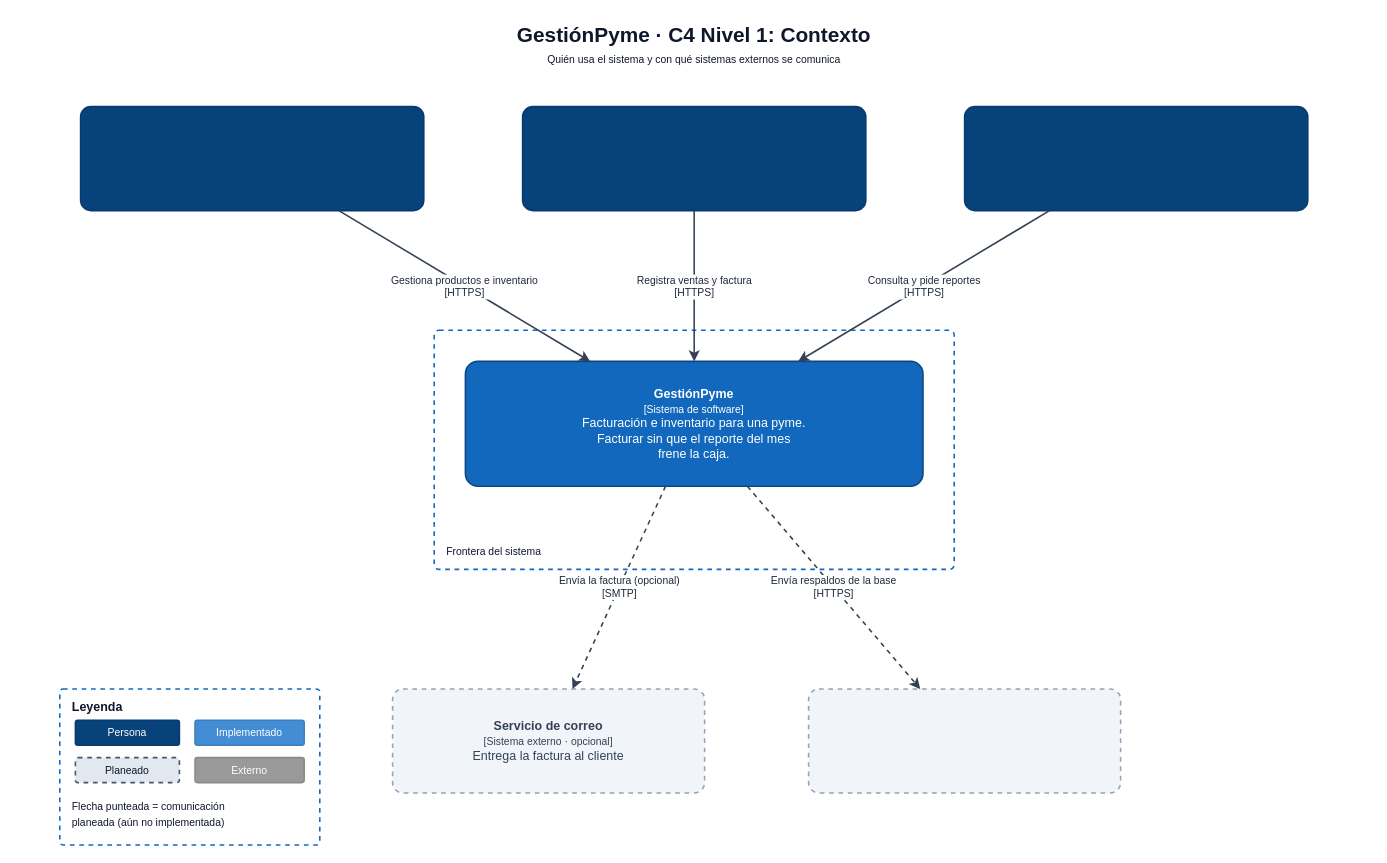
Some shapes in this 1387 by 863 pixel diagram are drawn without their labels. The shapes that lost their labels are listed below. From the top down, each one's centre as x and y in pixels, then its label:
At (x=251, y=158): "Administrador [Persona] Gestiona productos e inventario y consulta la operación".
At (x=693, y=158): "Vendedor [Persona] Registra ventas y emite facturas".
At (x=1135, y=158): "Contador [Persona] Consulta información y pide el reporte mensual".
At (x=964, y=740): "Amazon S3 [Sistema externo · AWS] Guarda los respaldos de la base".
